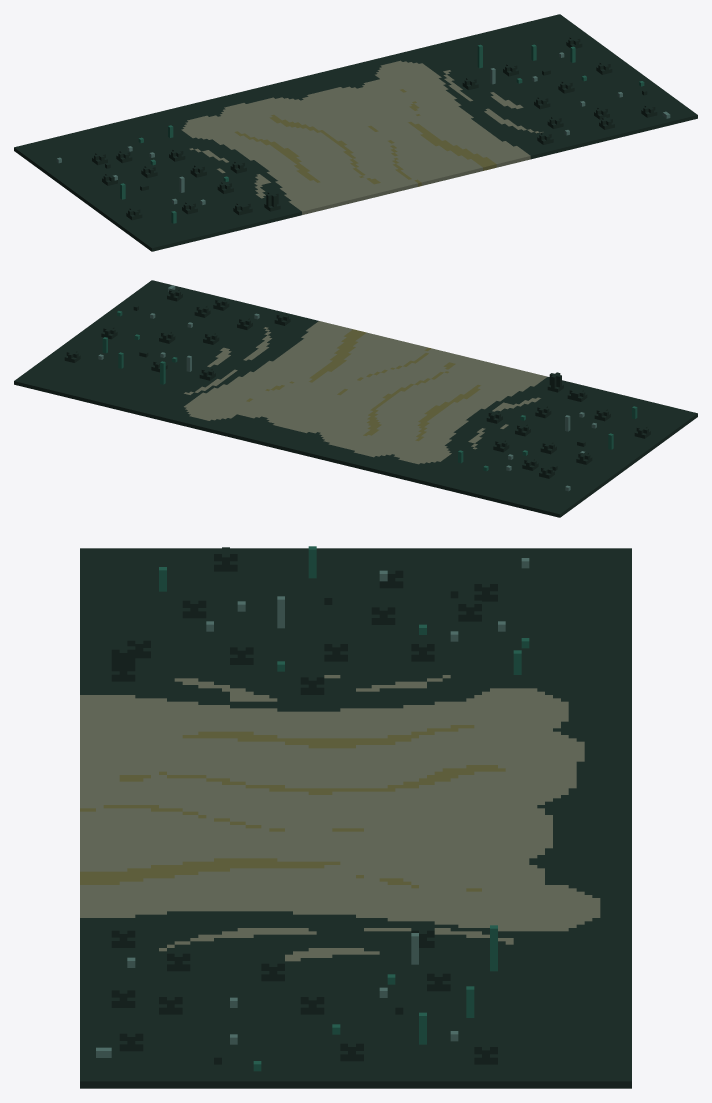
File: Menu-2.obj
3 renders of one model, top to bottom at view 1: azimuth 30°, elevation 25°; view 2: azimuth 150°, elevation 25°; view 3: azimuth 270°, elevation 25°, orthographic. The views are drawn at different scales.
Bounding box in the file's own units: 16 × 0.7 × 7.
1 material, 1 textured.
